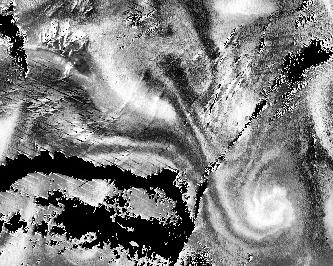CE: (228, 168, 299, 242)
